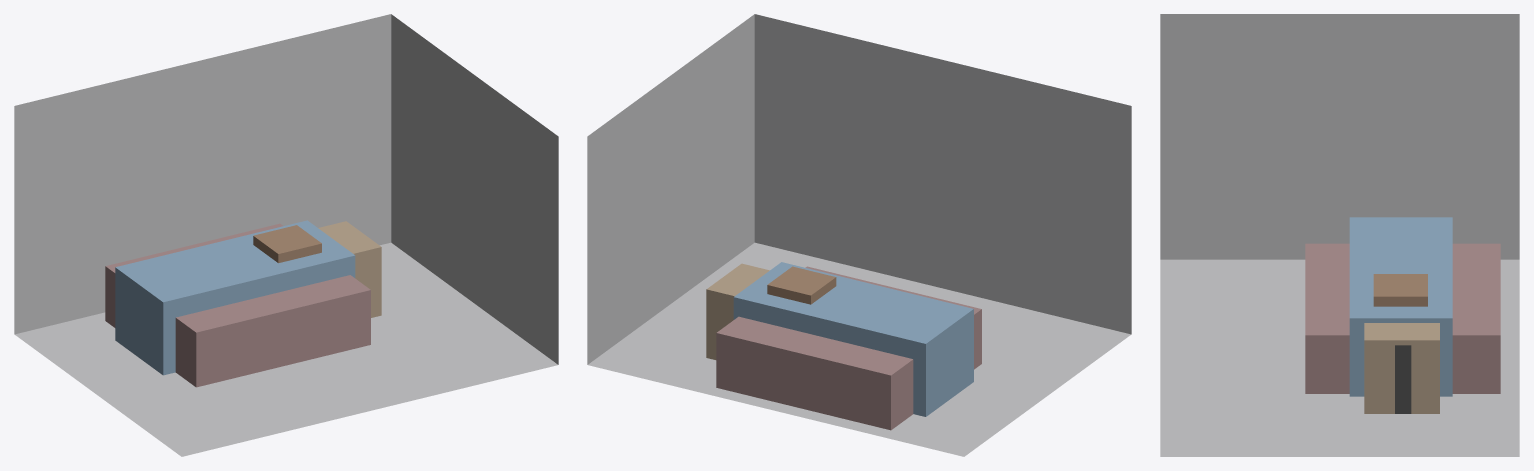
Rendered from optimised_layout.glb.
The picture shows the model from 3 angles, left to right: view 1: azimuth 30°, elevation 25°; view 2: azimuth 150°, elevation 25°; view 3: azimuth 270°, elevation 25°; orthographic projection. The views are drawn at different scales.
Parts seen in each view (by area): view 1: room, bed, couch, desk, chair; view 2: room, bed, couch, desk, chair; view 3: room, bed, couch, desk, chair, tv.
Part boxes in pixels (x1,y1,x2,y2): room: (14,14,558,456); bed: (105,223,370,387); couch: (115,220,355,375); desk: (318,221,381,317); chair: (253,225,321,263); room: (587,14,1131,456); bed: (716,266,981,430); couch: (733,262,973,416); desk: (706,263,769,359); chair: (767,266,836,304); room: (1160,14,1519,456); bed: (1305,243,1500,393); couch: (1349,217,1452,396); desk: (1364,323,1439,413); chair: (1373,274,1427,306); tv: (1395,345,1411,413).
Size of the model in its own units: 4.31 by 2.5 by 3.32.
